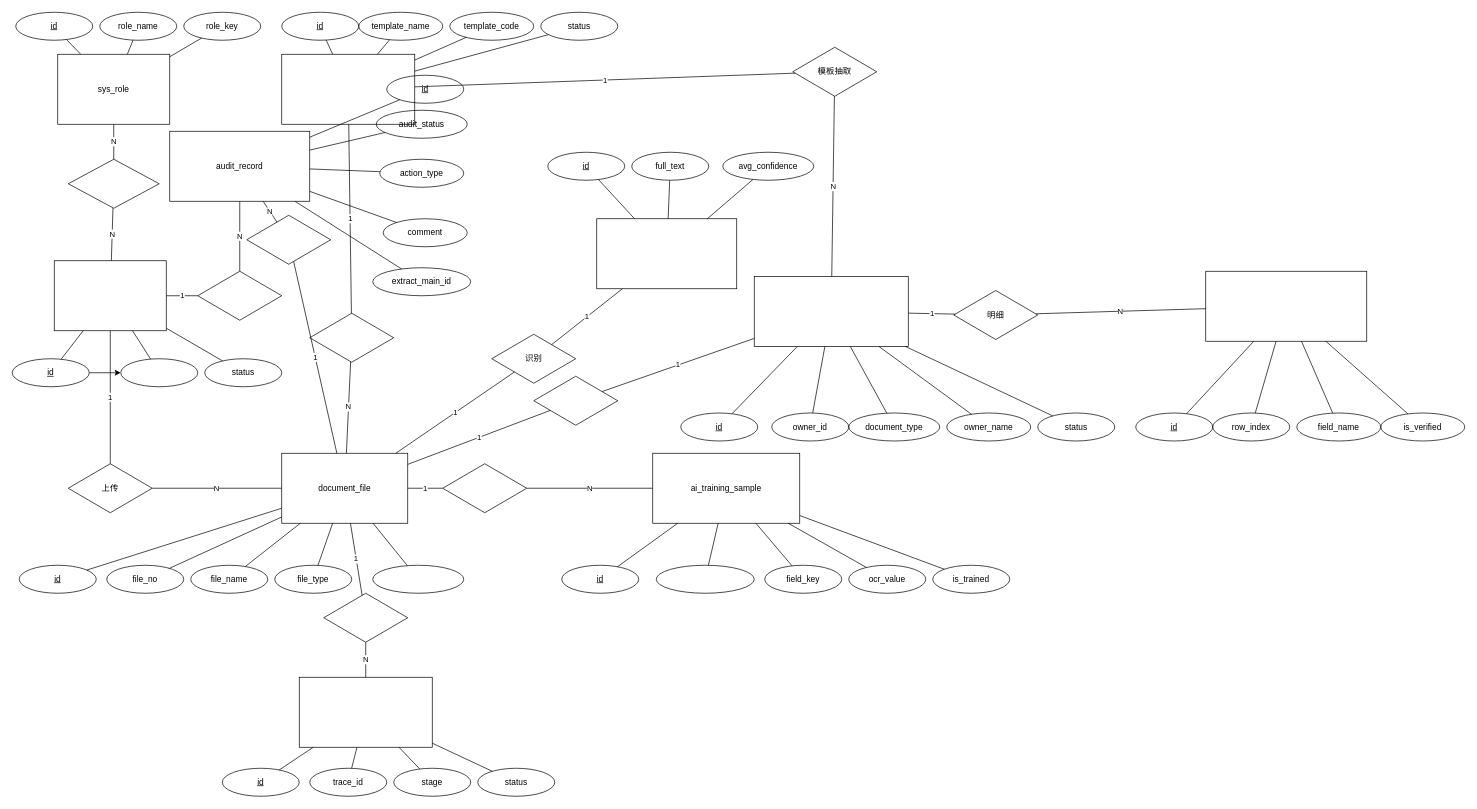
Some shapes in this 1477 by 809 pixel diagram are drawn without their labels. Each missing label, with the centre of its shape:
"corrected_value" goes at pixel 705 579.
"document_extract_detail" goes at pixel 1286 306.
"document_extract_main" goes at pixel 831 311.
"document_ocr_raw" goes at pixel 666 253.
"process_status" goes at pixel 418 579.
"sys_doc_template" goes at pixel 348 89.
"sys_task_log" goes at pixel 365 712.
"sys_user" goes at pixel 110 295.
"username" goes at pixel 159 372.
"分配" goes at pixel 113 183.
"审核" goes at pixel 288 239.
"应用" goes at pixel 351 337.
"执行" goes at pixel 239 295.
"抽取" goes at pixel 575 400.
"训练" goes at pixel 484 488.
"记录" goes at pixel 365 617.
